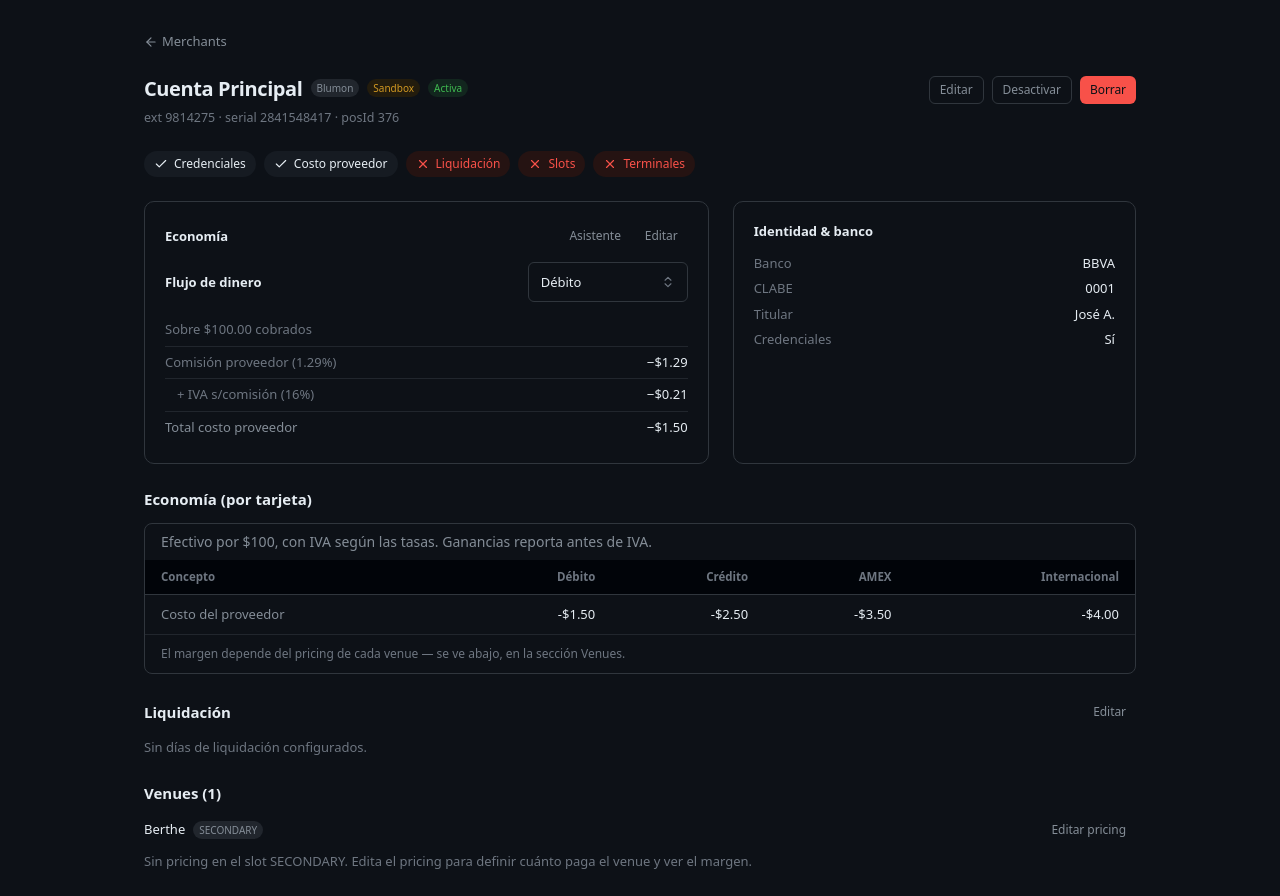
Test case: MerchantDetailPage › el Asistente prellena el reparto que calculó (100%), no el guardado (50%)
Expected: the heading "Cuenta Principal" is shown, left=144, top=76, right=302, bottom=100
Click the button "Asistente" at (595, 236), box left=560, top=222, right=631, bottom=250
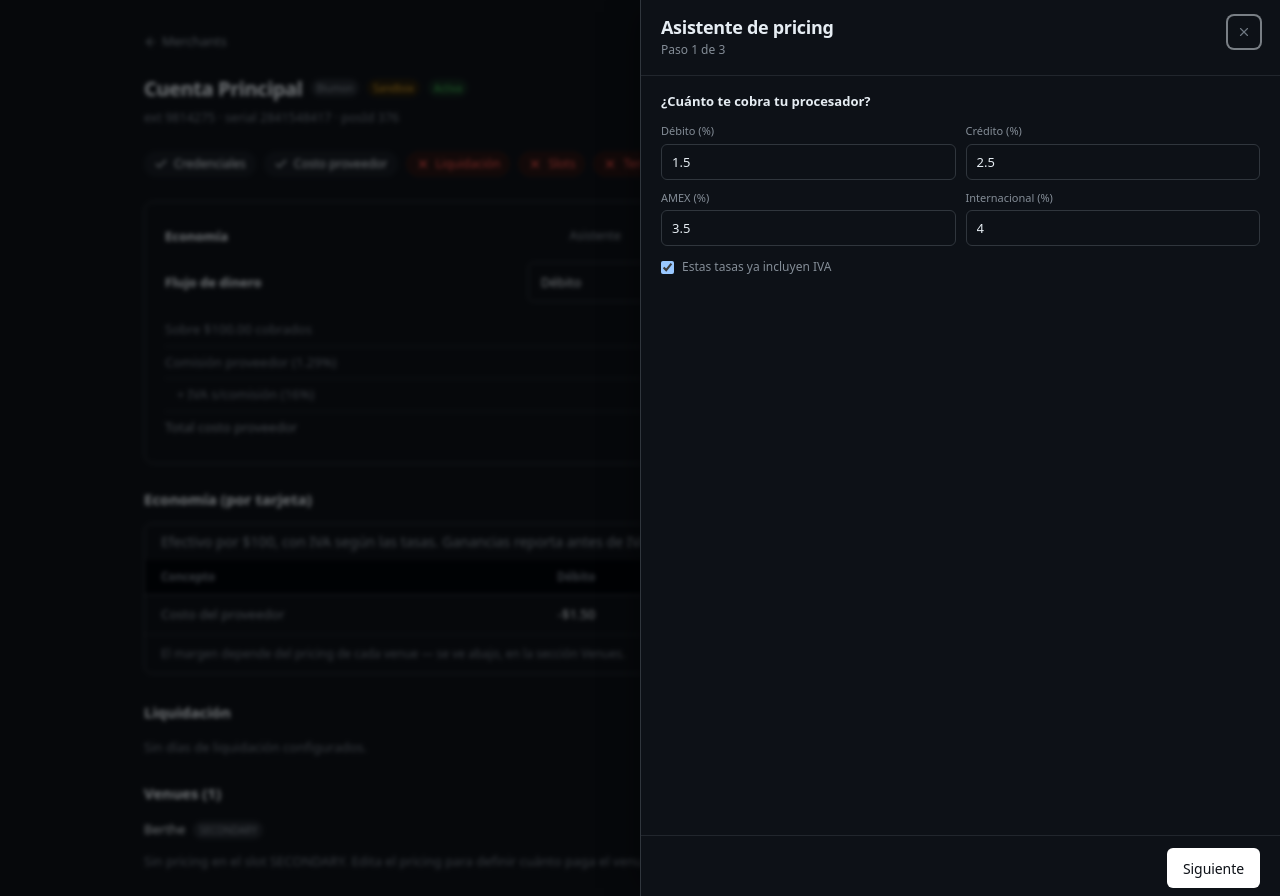
Click the button "Siguiente" at (1214, 868), box left=1167, top=848, right=1260, bottom=888
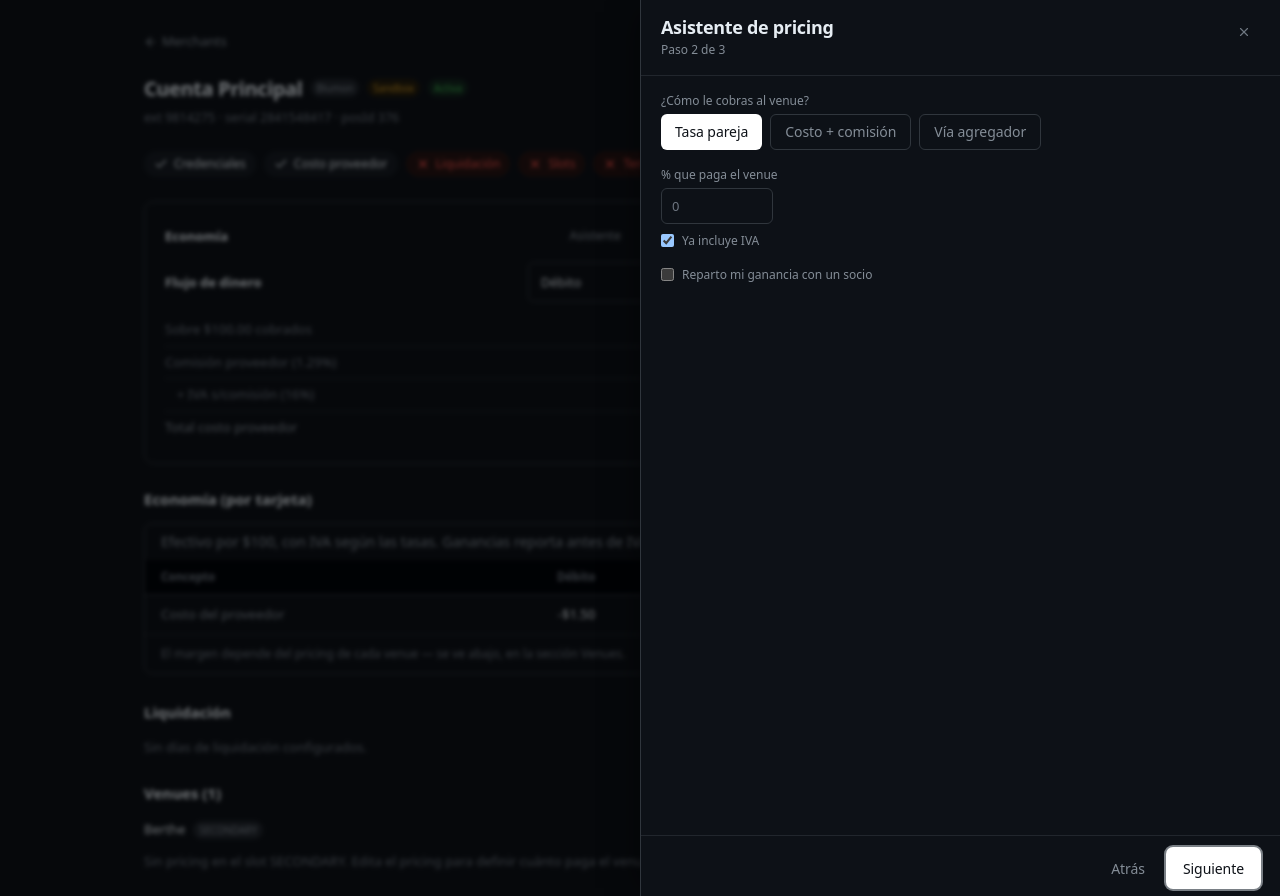
Click the button "Costo + comisión" at (841, 132), box left=770, top=114, right=911, bottom=150
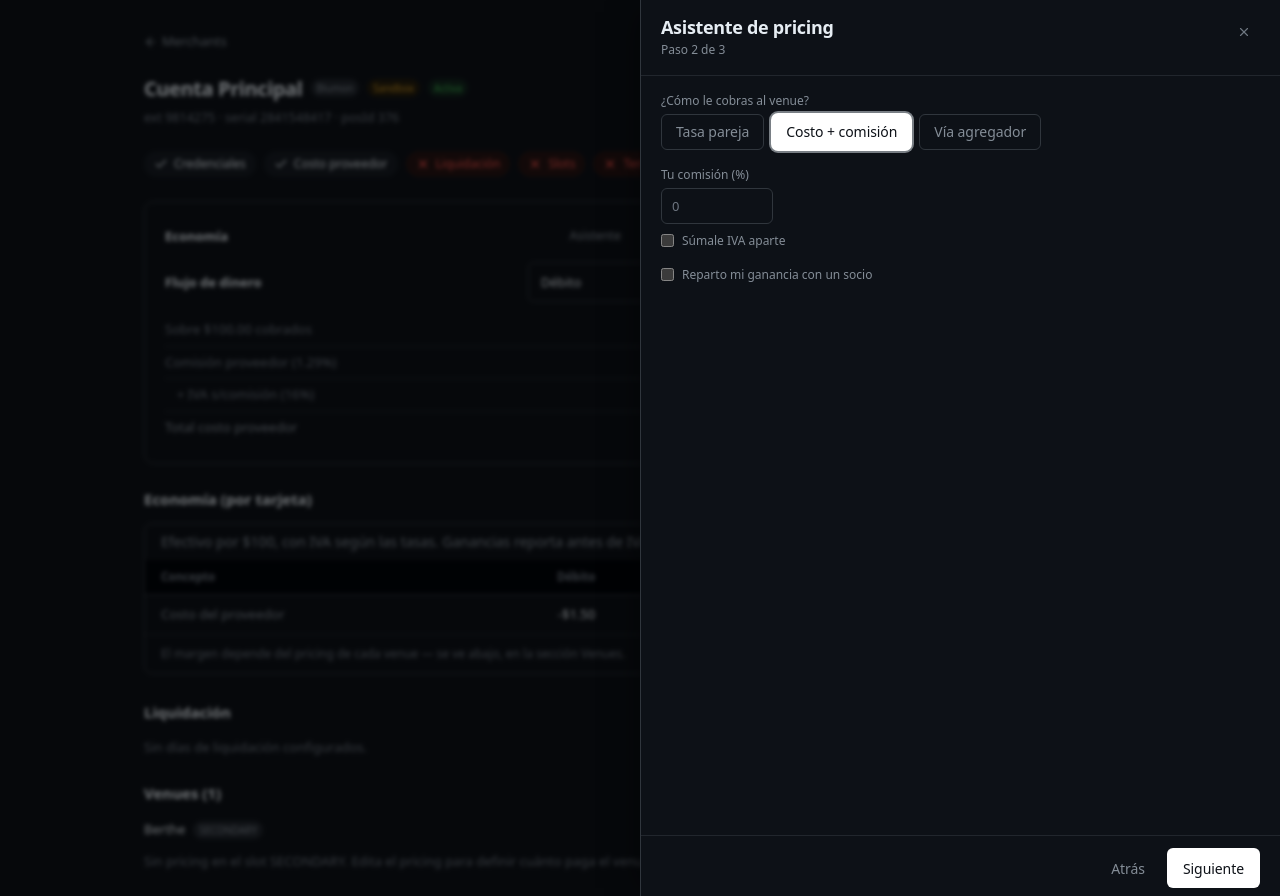
Type "3.5" into the field labelled "Tu comisión (%)" at (717, 206), box left=661, top=188, right=773, bottom=224
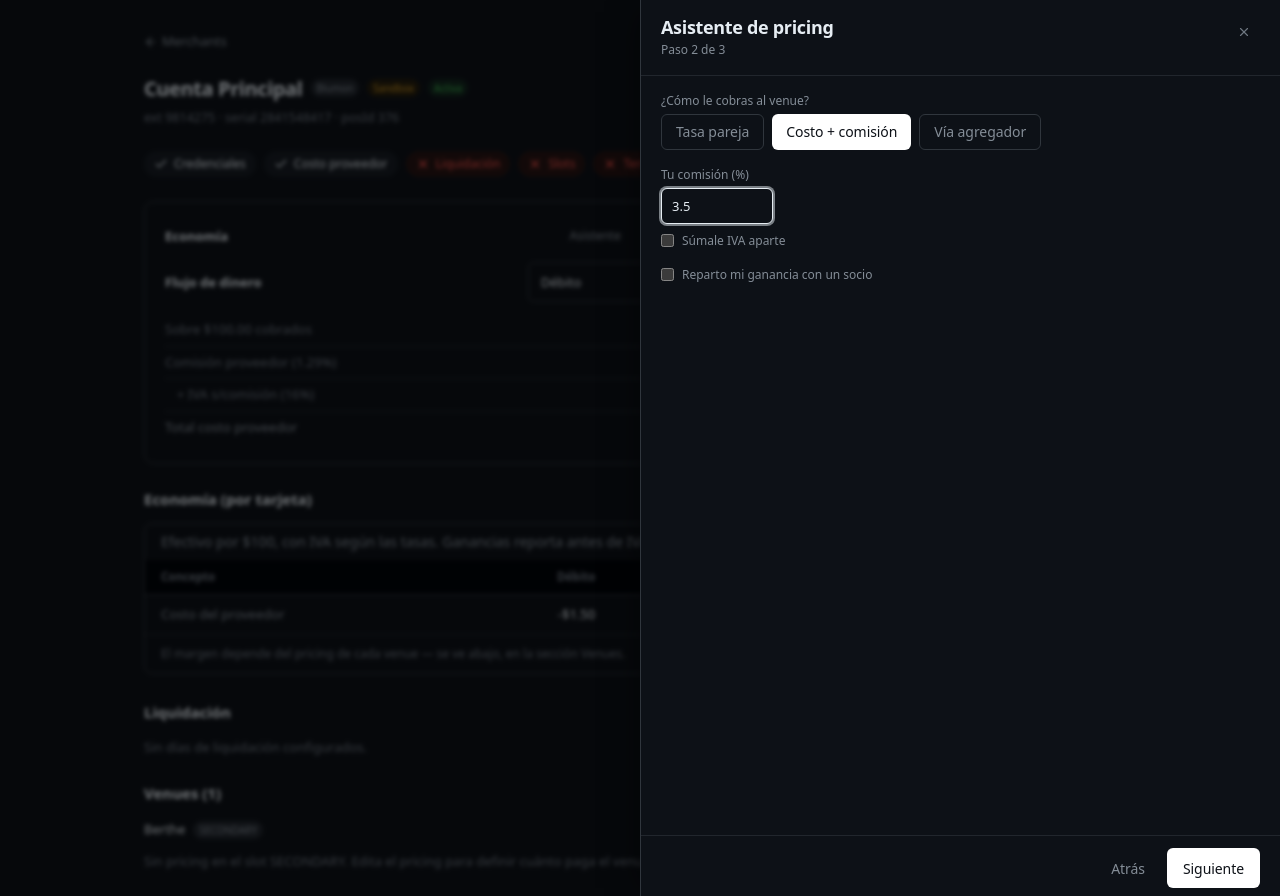
Click the button "Siguiente" at (1214, 868), box left=1167, top=848, right=1260, bottom=888
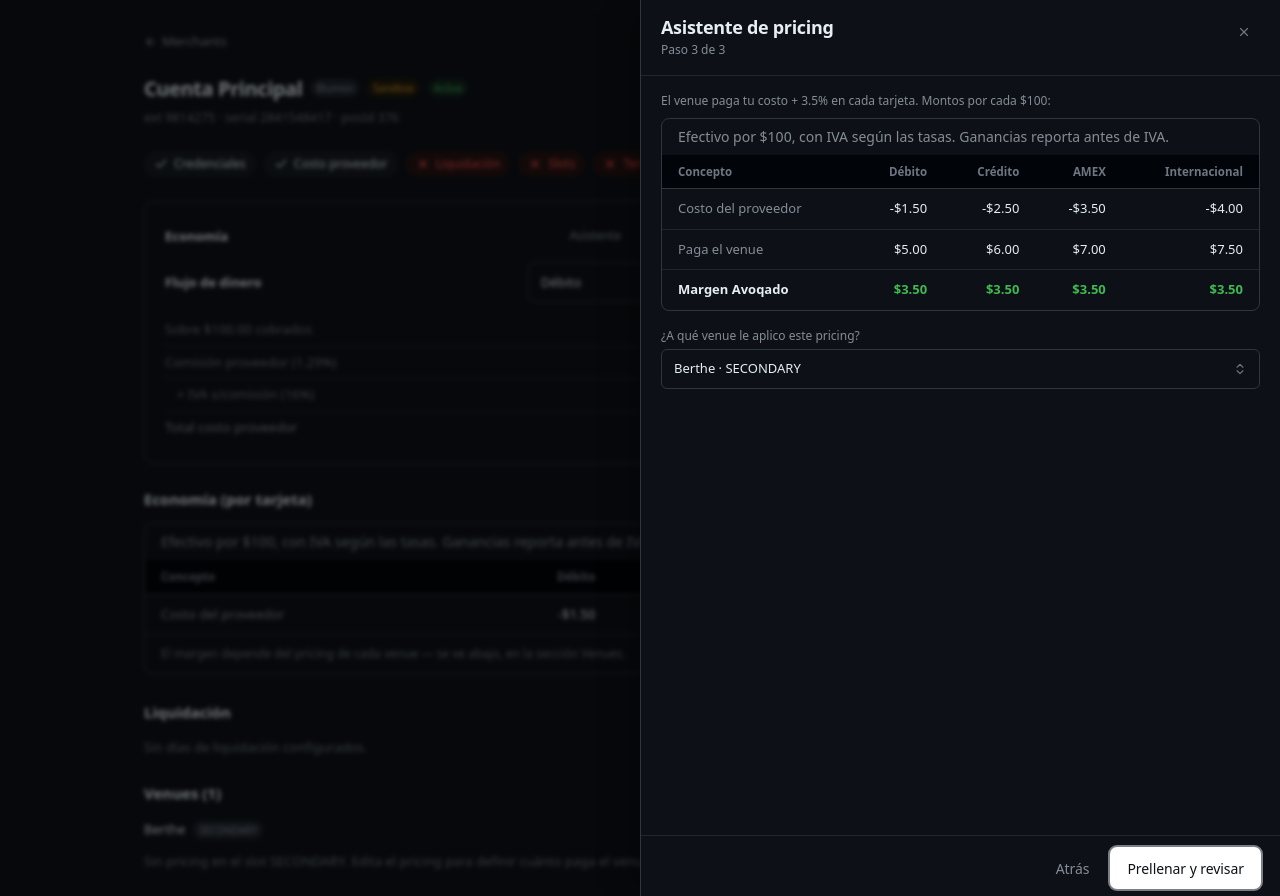
Click the button "Prellenar y revisar" at (1186, 868), box left=1111, top=848, right=1260, bottom=888
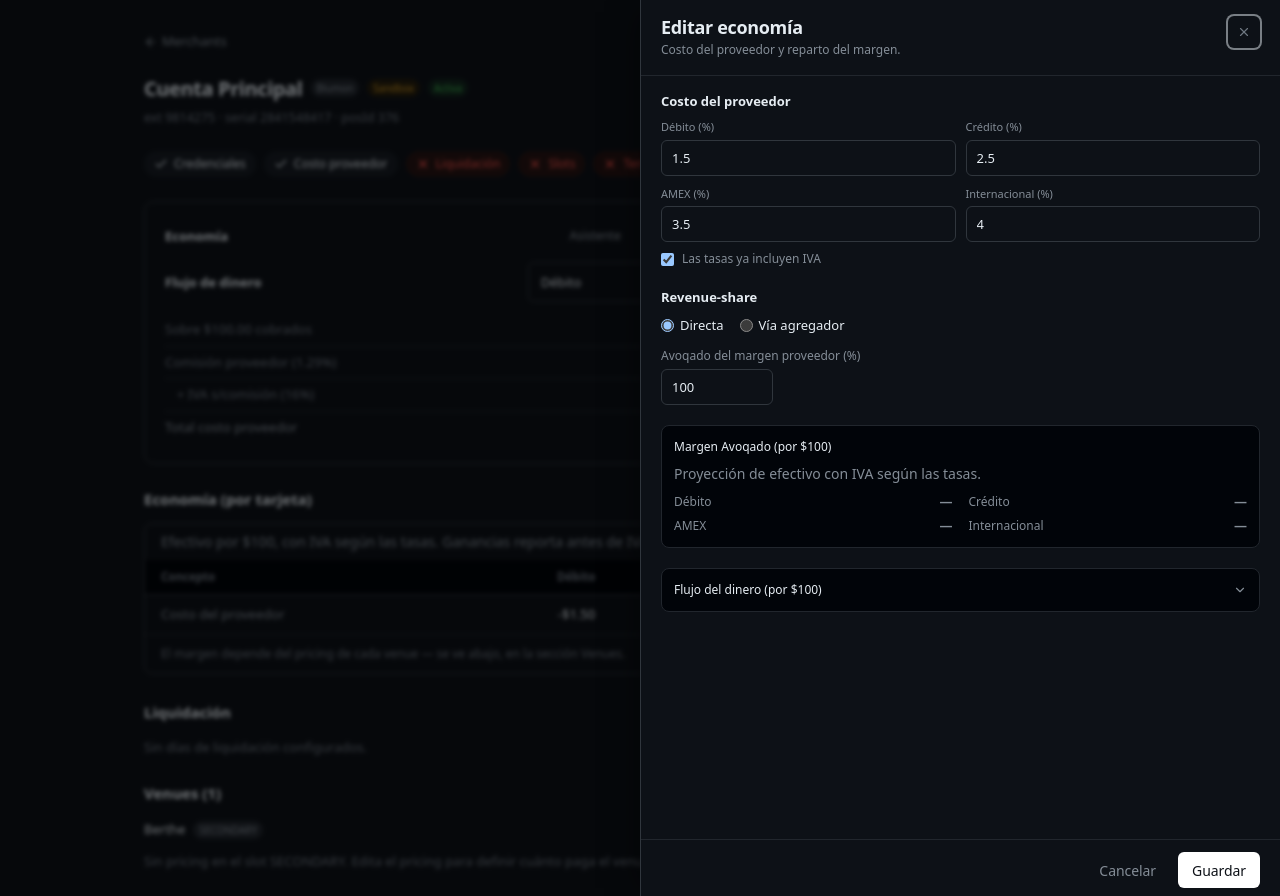
Expected: the field labelled "Avoqado del margen proveedor (%)" holds "100", left=661, top=369, right=773, bottom=405
